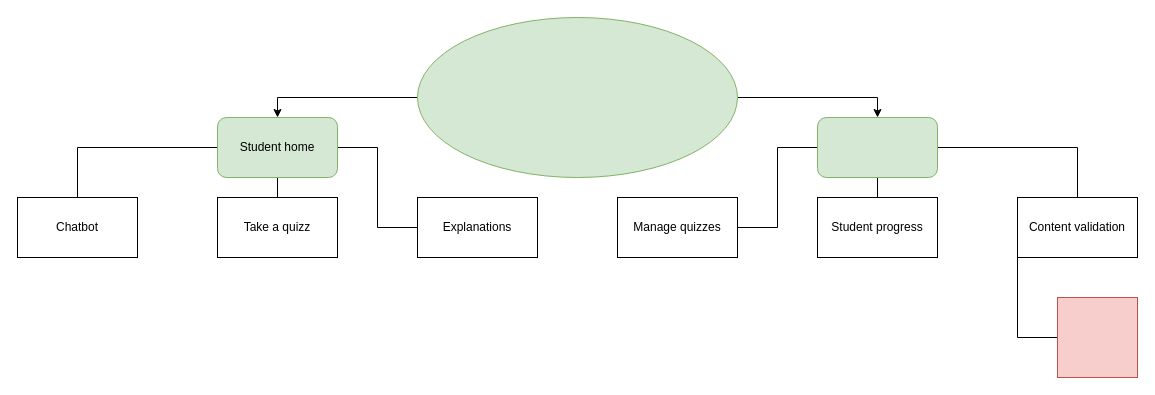
Image size: 1155x395. Some labels were removed from this diagram. The shapes that lost their labels are listed below. From the top down, each one's centre as x and y in pixels, then its label:
point 577,97: Main page Here is the login window. User logs in as "student" or "instructor".
point 877,147: Instructor home
point 1097,337: Submit PDF
